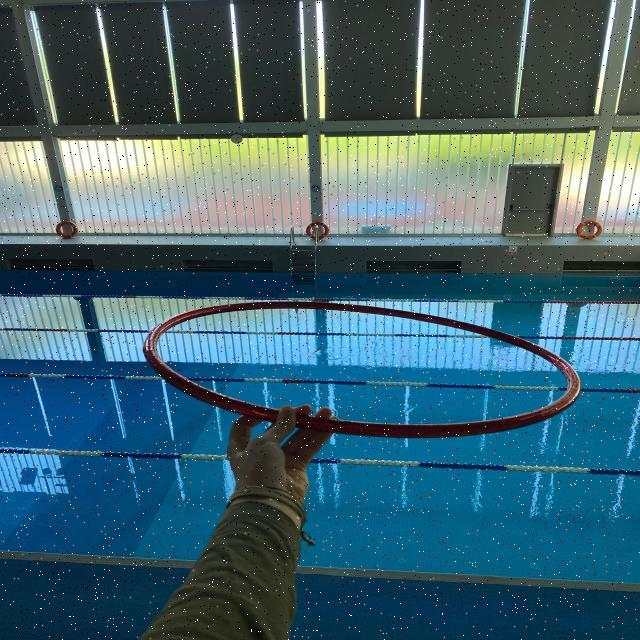Circle: (140, 300, 583, 440)
